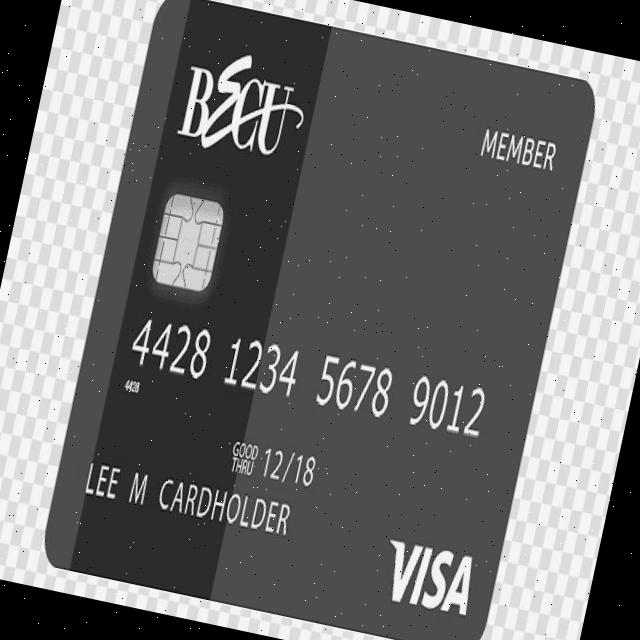card: (38, 0, 599, 640)
